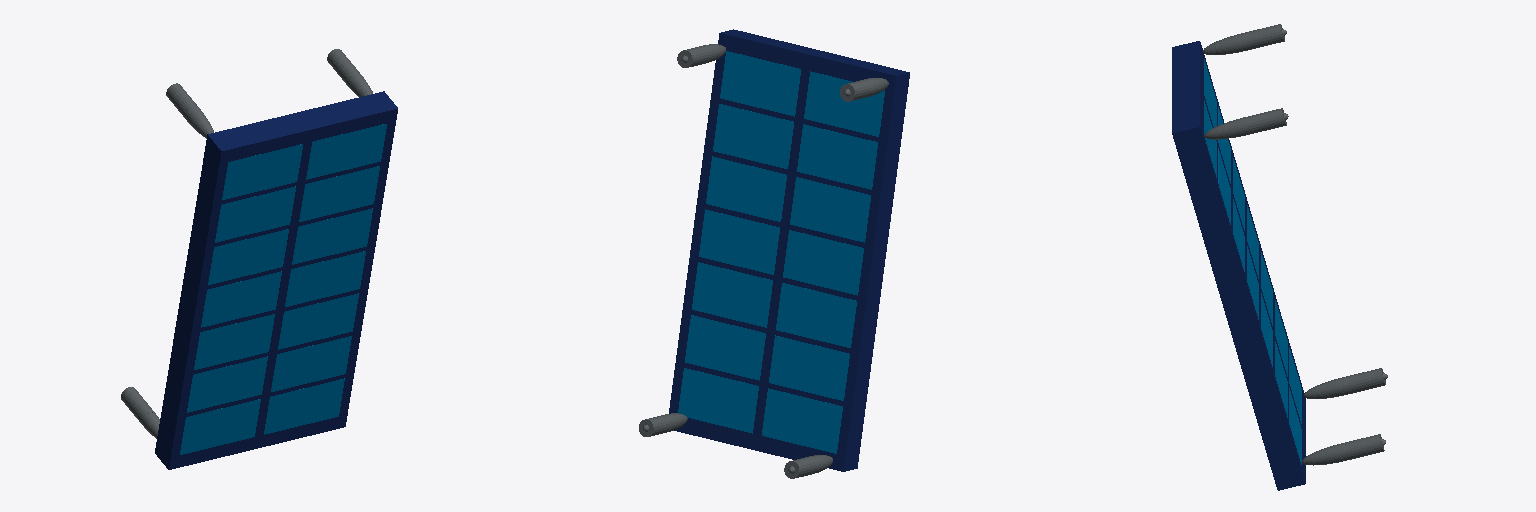
File: solar.obj
3 views of the same model, side by side, from view 1: azimuth 30°, elevation 25°; view 2: azimuth 150°, elevation 25°; view 3: azimuth 270°, elevation 25° (orthographic).
Visible parts, largest first — view 1: obj_0; view 2: obj_0; view 3: obj_0.
Boxes of the visible parts, <box> form: obj_0: <box>121,49,397,469</box>; obj_0: <box>639,29,909,478</box>; obj_0: <box>1172,24,1387,490</box>.
Bounding box in the file's own units: 6.75 × 14 × 7.14.